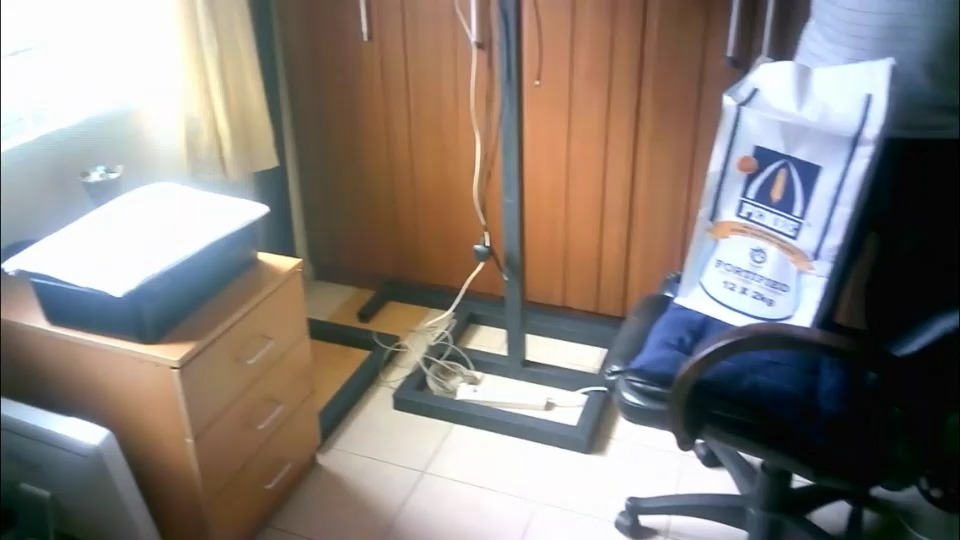wheat_flour_blue_label: (674, 62, 886, 329)
